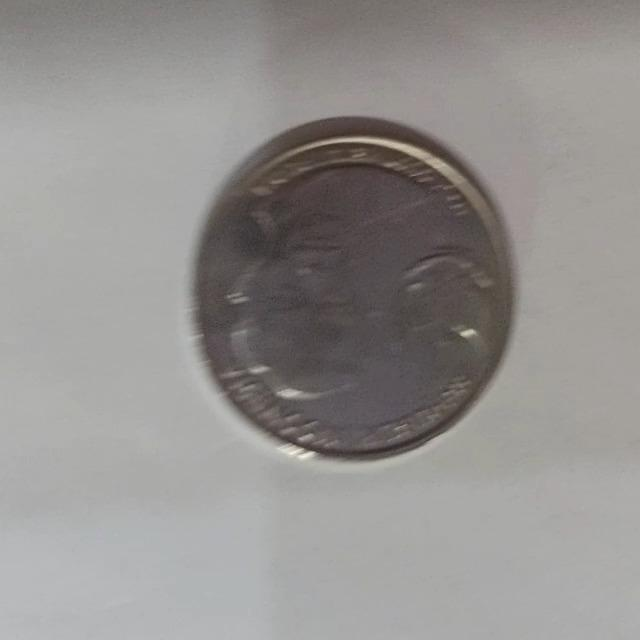Rp100: (186, 114, 518, 466)
